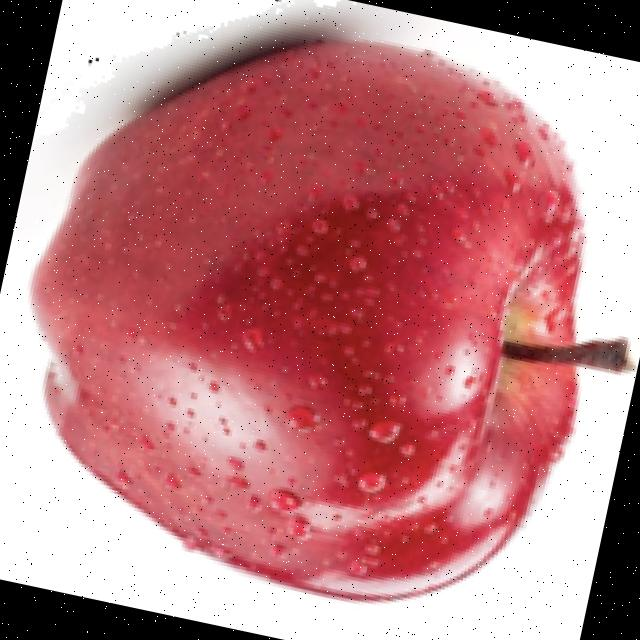apple: (25, 0, 638, 608)
